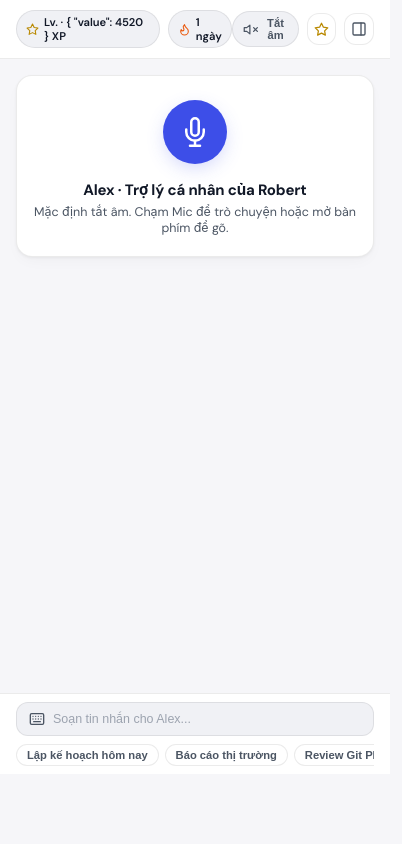
it: AlexTalkHomeView › renders correctly as the first landing screen with default MUTED audio
This screenshot has width=402, height=844.
// Verify toggling audio state
Click the button with class "alex-home__audio-btn" at (266, 29), box [232,11,299,47]
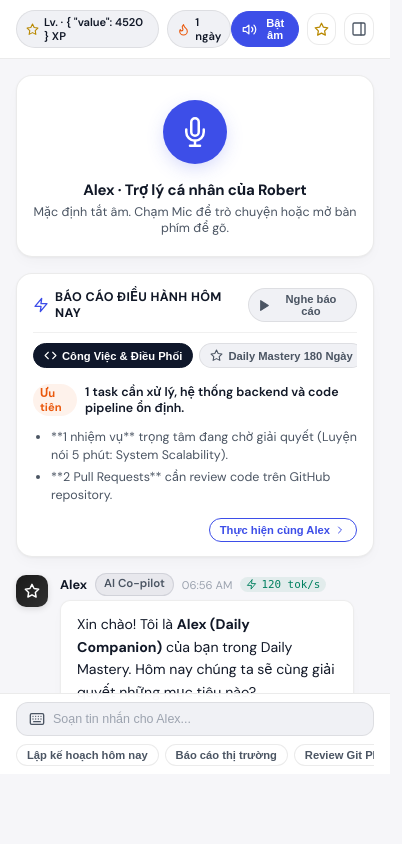
Result: the button with class "alex-home__audio-btn" reads "Bật âm" at [231,11,299,47]
